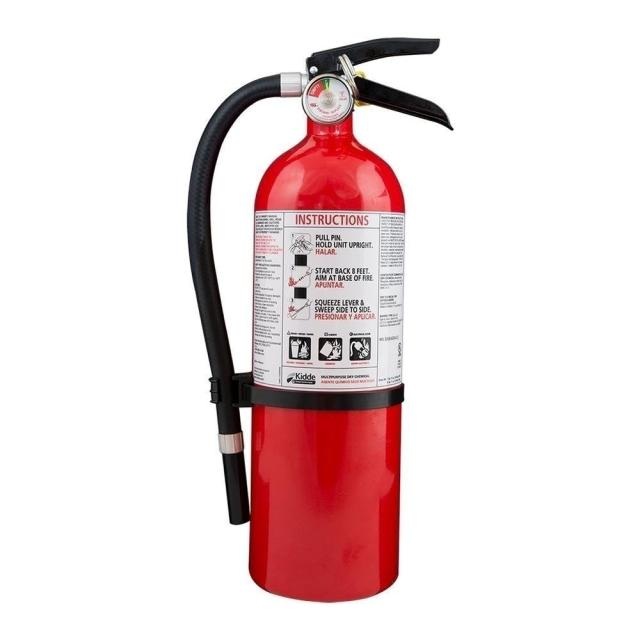fire_extinguisher: (182, 32, 458, 604)
